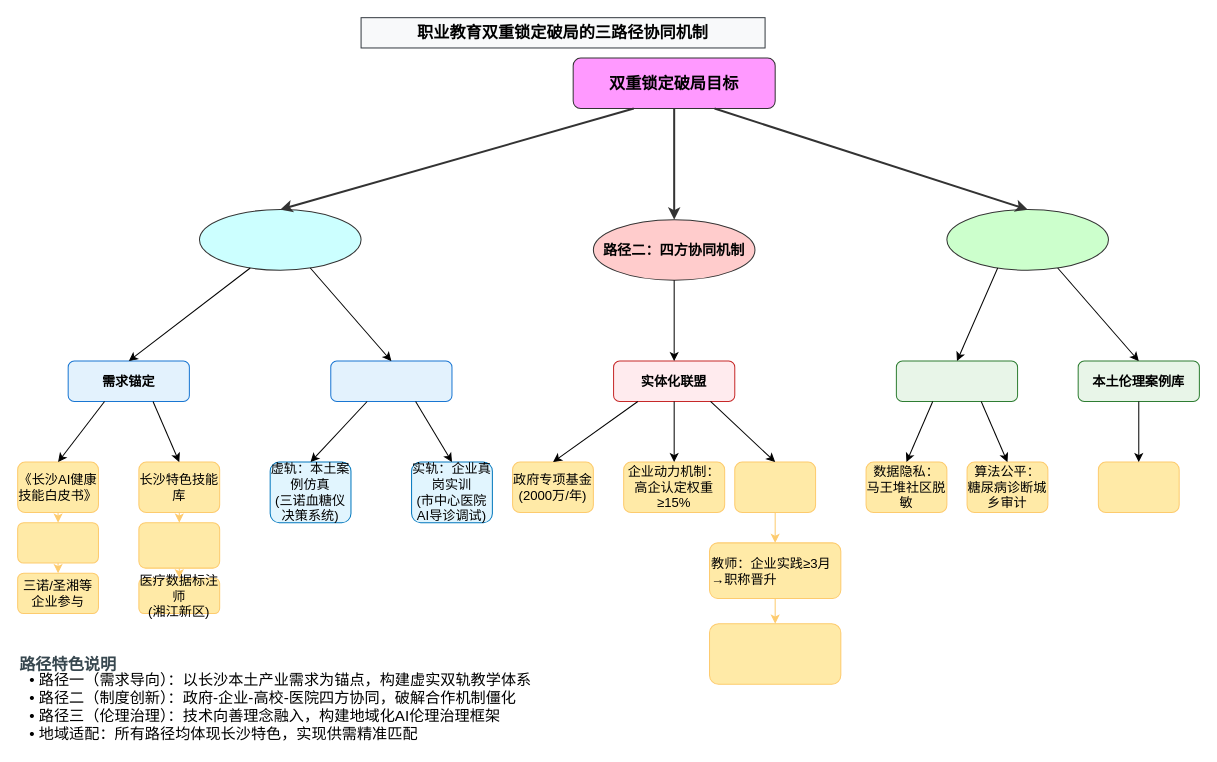
Image size: 1217x762. Some labels were removed from this diagram. The centre of each missing label's shape, as x and y in pixels:
"卫健委/人社局主导" belongs at point (57, 542).
"双师工作站" belongs at point (775, 487).
"工程师或医务工作者：带薪教学 →企业KPI" belongs at point (775, 653).
"教学实施" belongs at point (391, 380).
"智慧养老护理员 (友阿颐养)" belongs at point (179, 545).
"智慧养老院 隐私泄露应急" belongs at point (1138, 487).
"路径一：虚实双轨教学链" belongs at point (279, 239).
"路径三：技术向善范式" belongs at point (1027, 239).
"长沙版伦理量表" belongs at point (956, 380).
